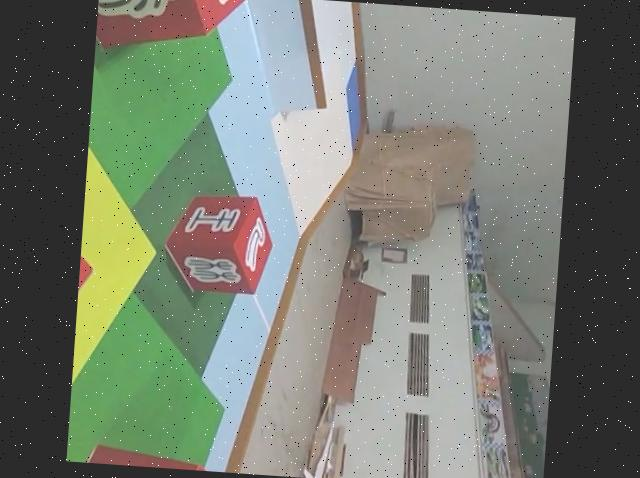R2 Fake: (162, 189, 278, 300), (93, 0, 247, 61), (65, 440, 243, 473)
